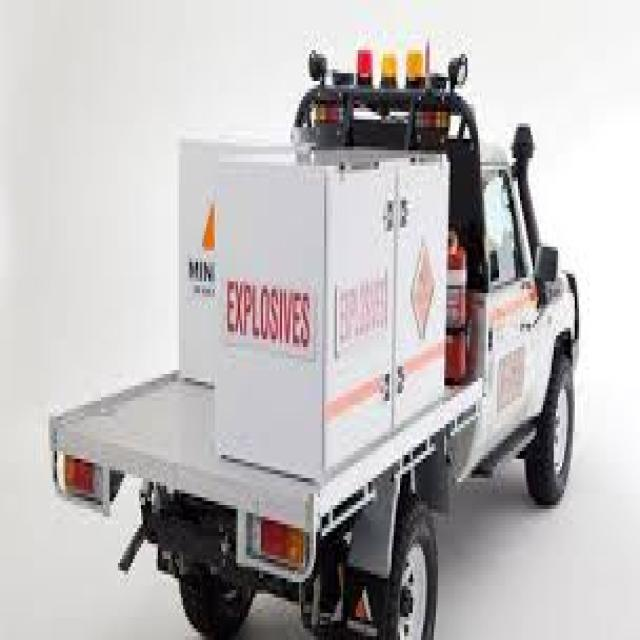light_vehicle: (40, 31, 589, 636)
